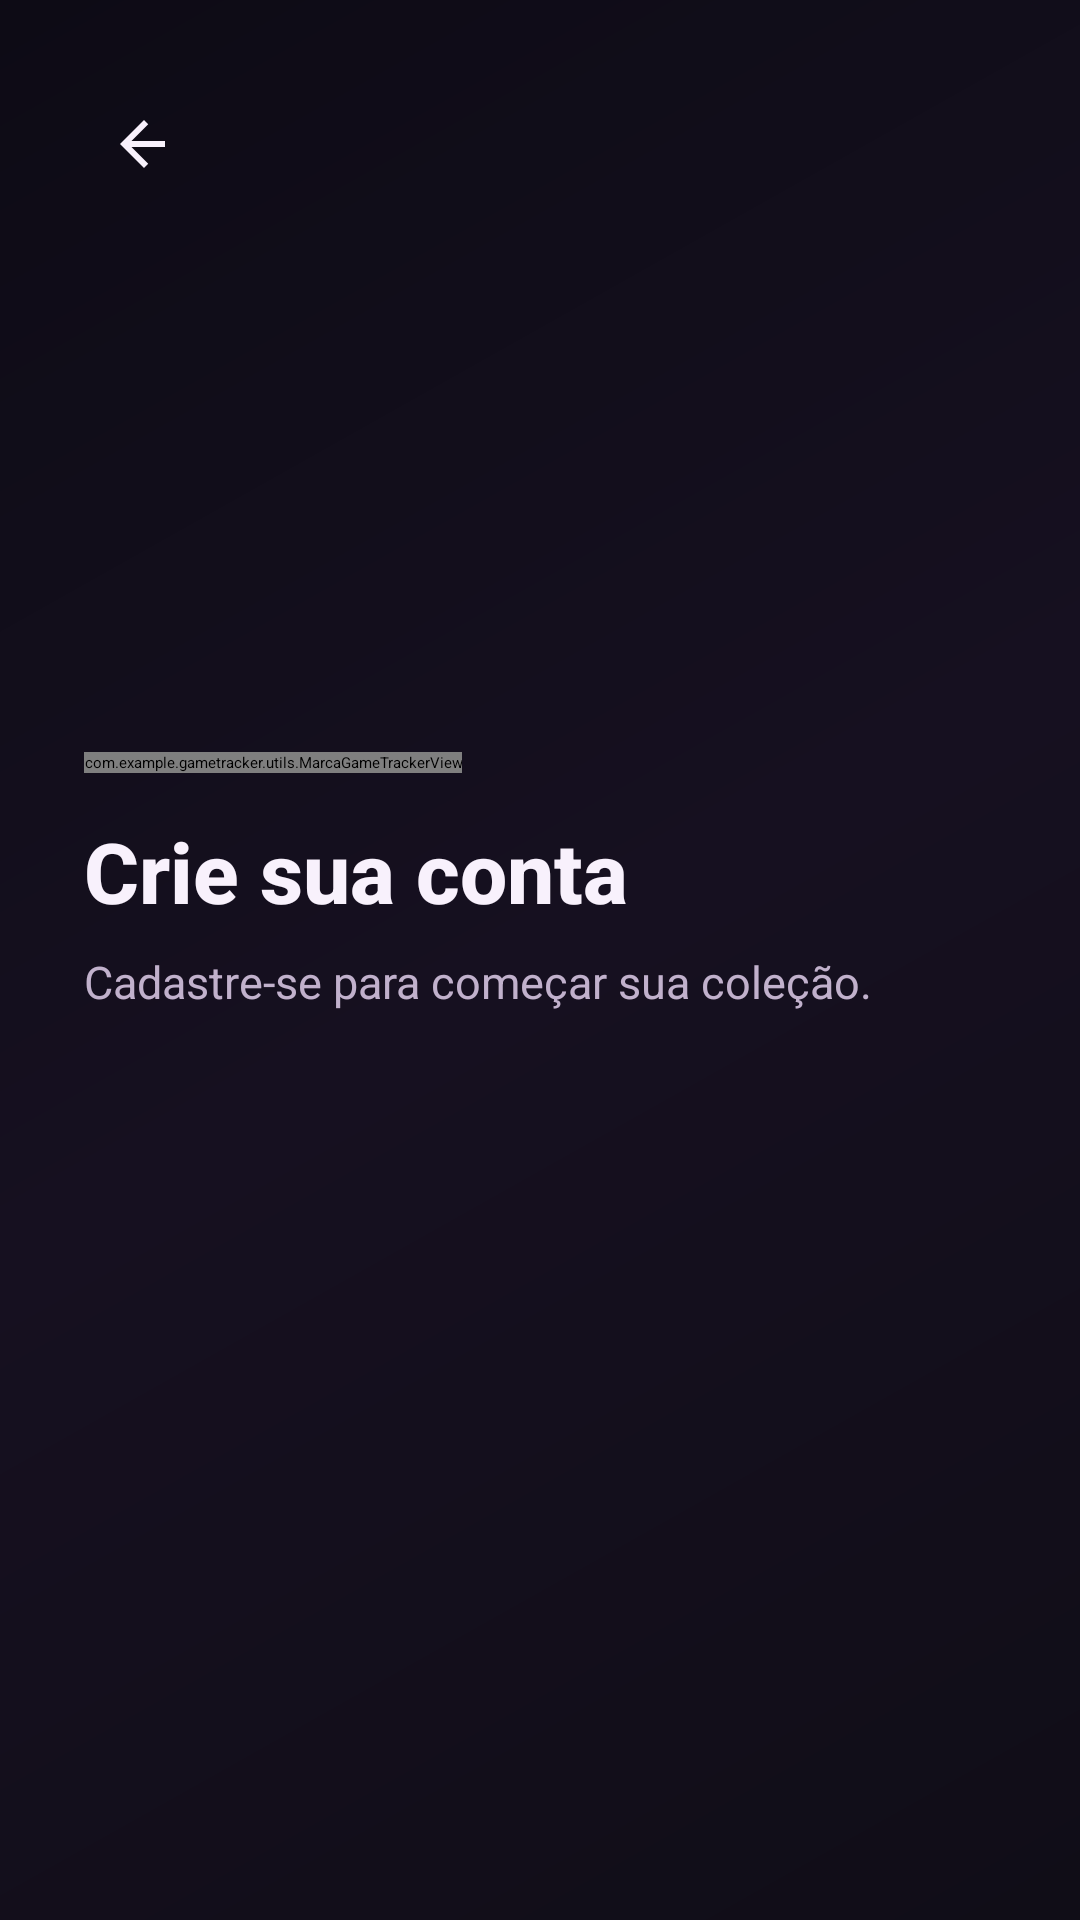

Icons on this 1080*1920 Android screen, each with the point to tap as (x=x, y=y):
← Voltar: (x=142, y=144)
